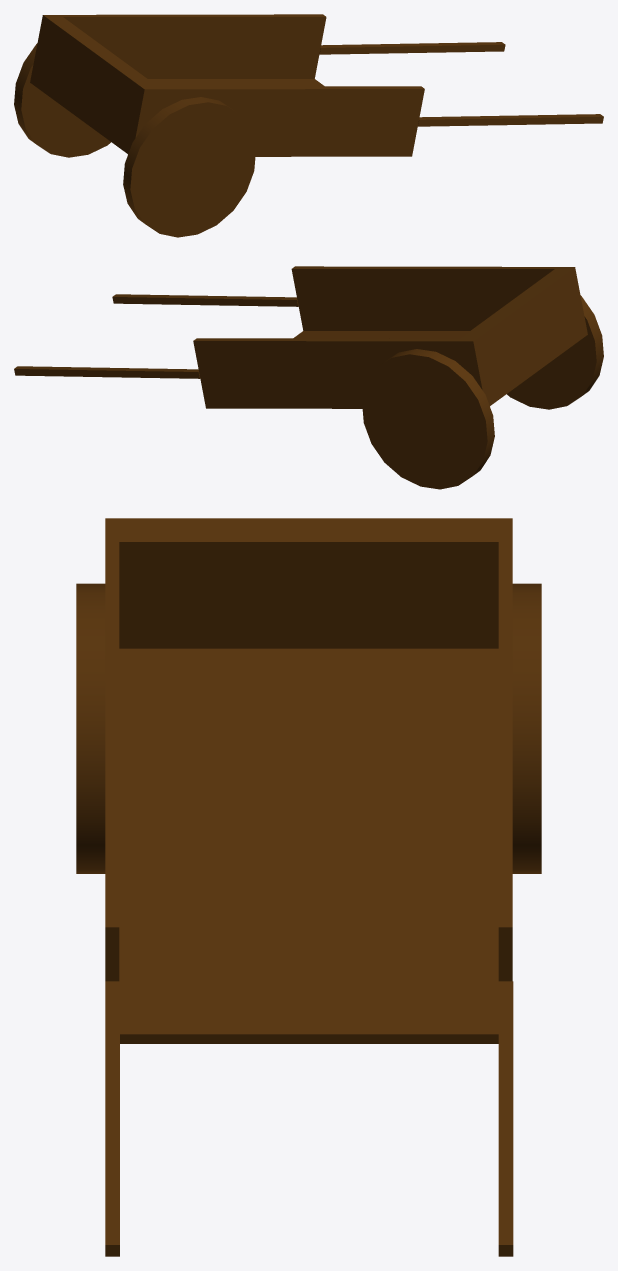
The model's file is villagecart.fbx.
3 renders of one model, top to bottom at view 1: azimuth 30°, elevation 25°; view 2: azimuth 150°, elevation 25°; view 3: azimuth 270°, elevation 25°, orthographic. The views are drawn at different scales.
Visible parts, largest first — view 1: pCube8; view 2: pCube8; view 3: pCube8.
Boxes of the visible parts, x1,y1,x2,y2 form: pCube8: (14,14,603,237); pCube8: (14,266,603,489); pCube8: (76,518,541,1256).
Size of the model in its own units: 7.64 by 2.29 by 3.2.
